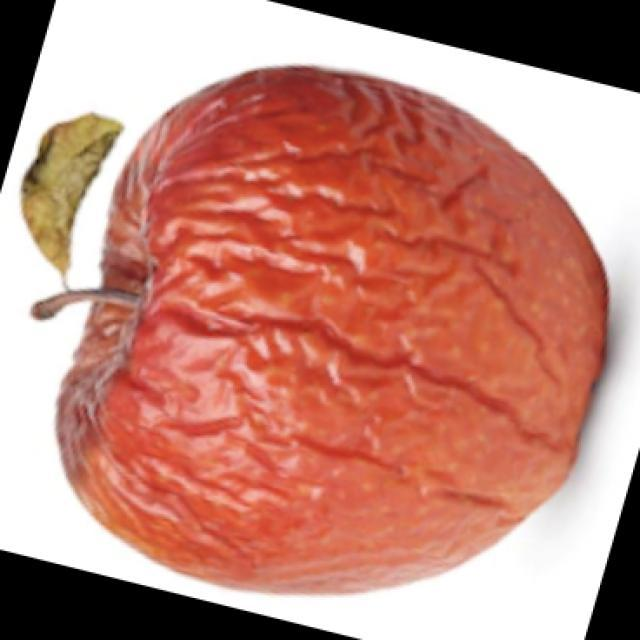Fresh Apple: (102, 80, 583, 563)
